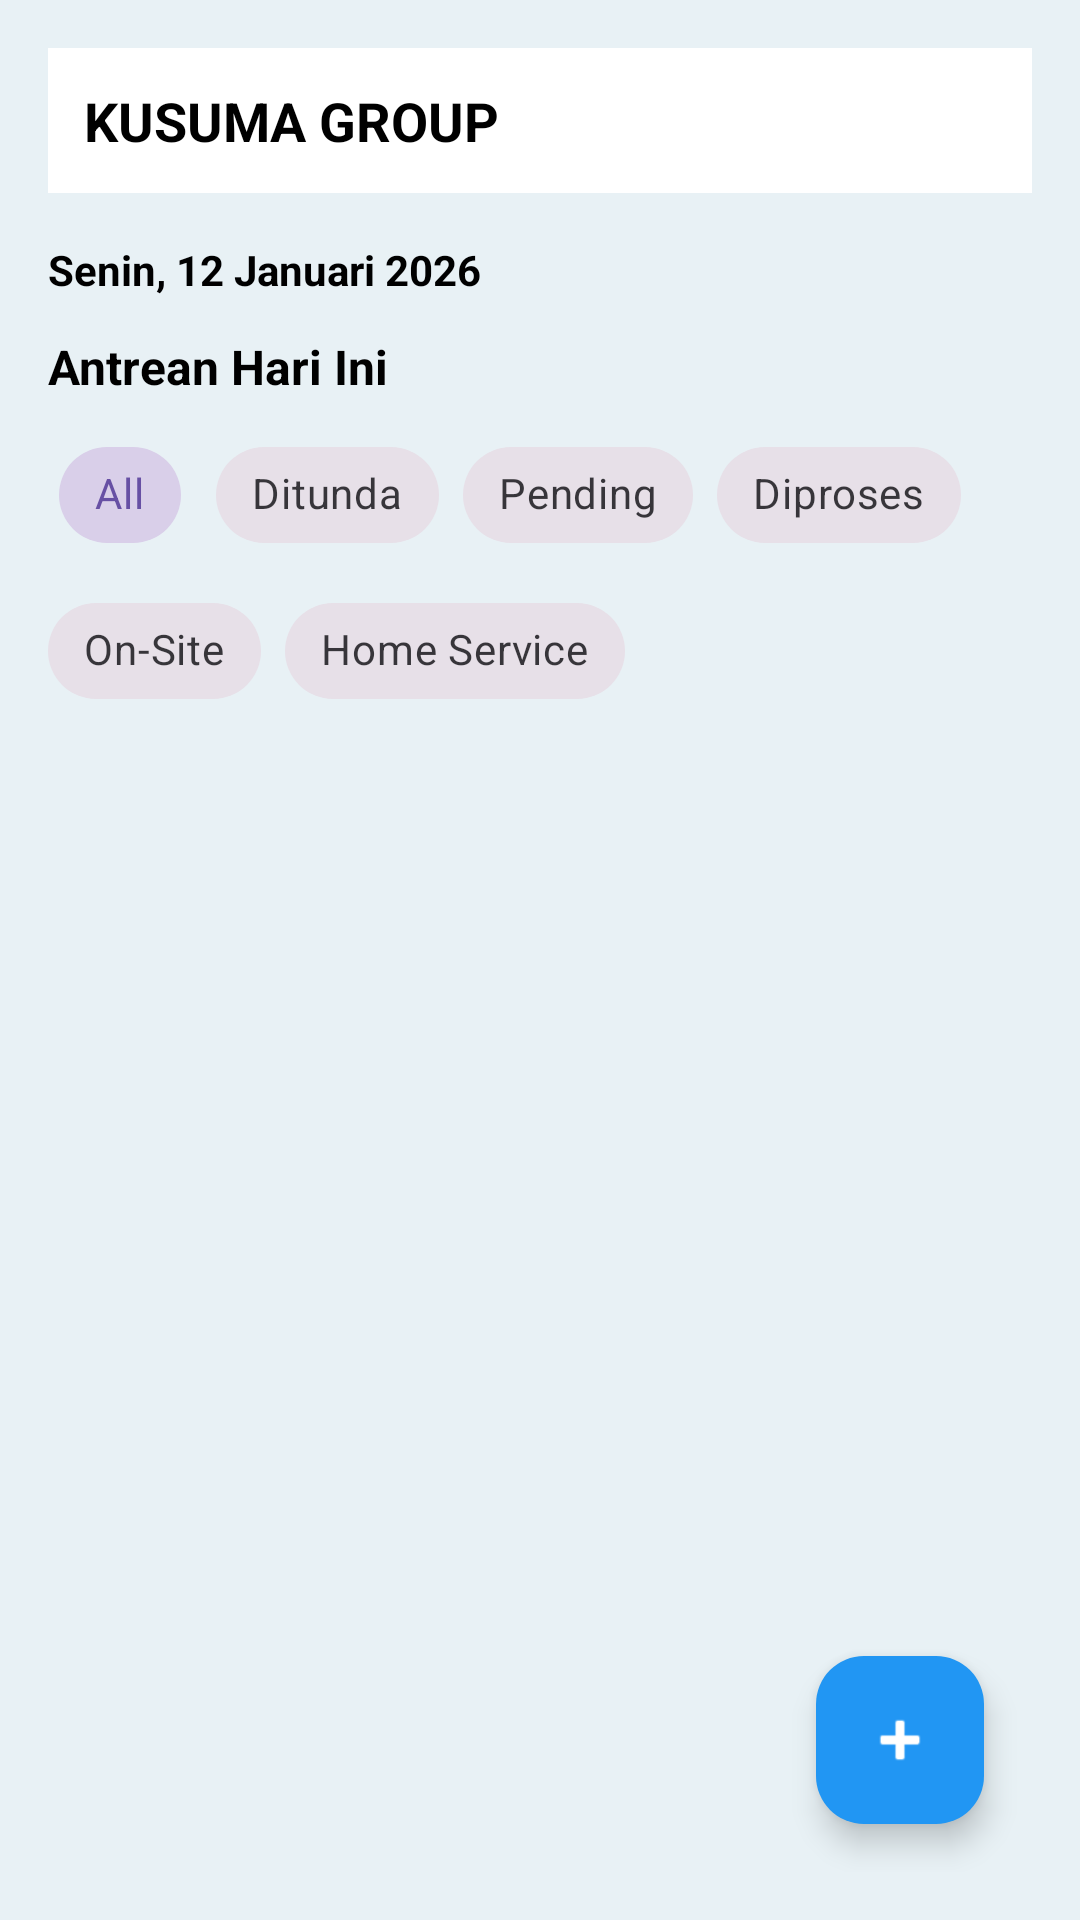

Locate icon controls on the screen. Image size 1080px x 1920px, boxes as (x1, y1, x2, y2).
Tambah Antrean Manual: (816, 1656, 984, 1824)
